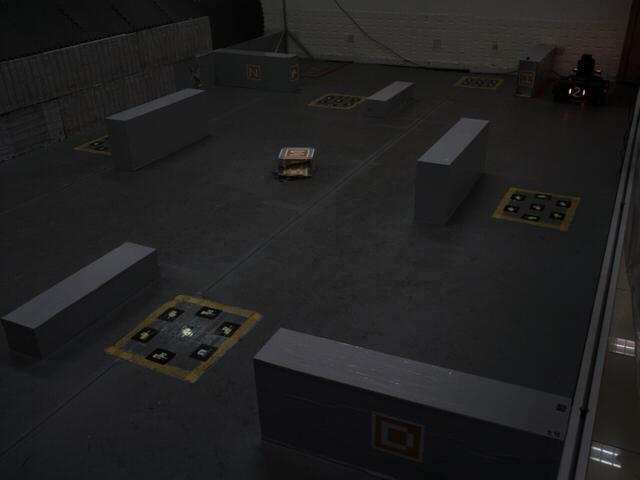armor: (566, 83, 588, 100)
